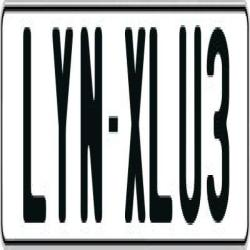3: (206, 25, 231, 234)
L: (23, 20, 50, 216), (148, 27, 172, 228)
N: (80, 25, 103, 234)
U: (180, 25, 202, 227)
X: (124, 20, 149, 227)
Y: (52, 23, 73, 227)
